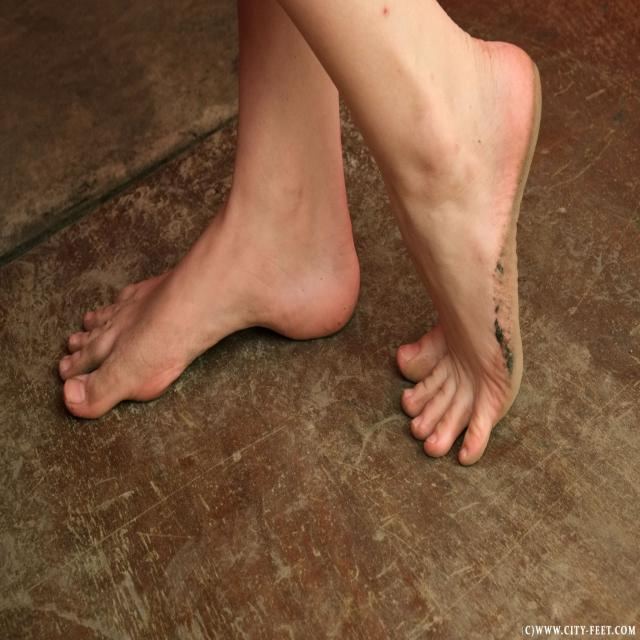Barefoots: (397, 40, 542, 465), (59, 216, 361, 420)
